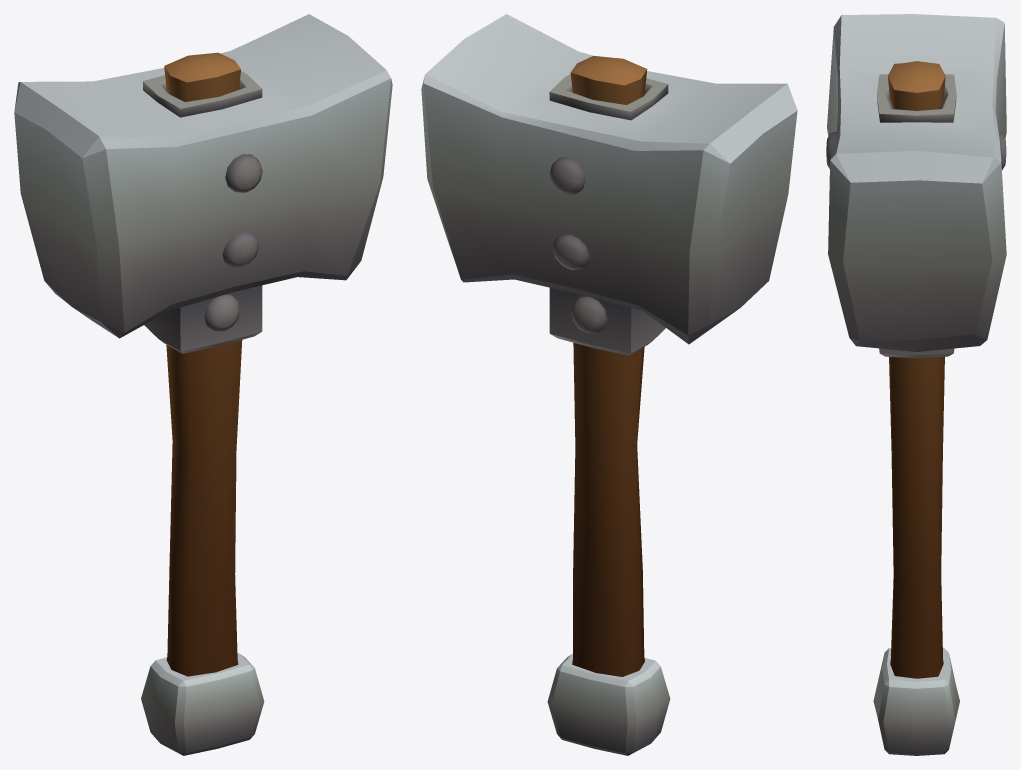
The model's file is Hammer_04.glb.
3 views of the same model, side by side, from view 1: azimuth 30°, elevation 25°; view 2: azimuth 150°, elevation 25°; view 3: azimuth 270°, elevation 25° (orthographic).
Visible parts, largest first — view 1: Hammer_04; view 2: Hammer_04; view 3: Hammer_04.
Part boxes in pixels (x1,y1,x2,y2): Hammer_04: (14, 14, 392, 755); Hammer_04: (421, 14, 797, 755); Hammer_04: (826, 14, 1006, 755).
Bounding box in the file's own units: 0.5263 × 1.08 × 0.2641.
1 material, 1 textured.
